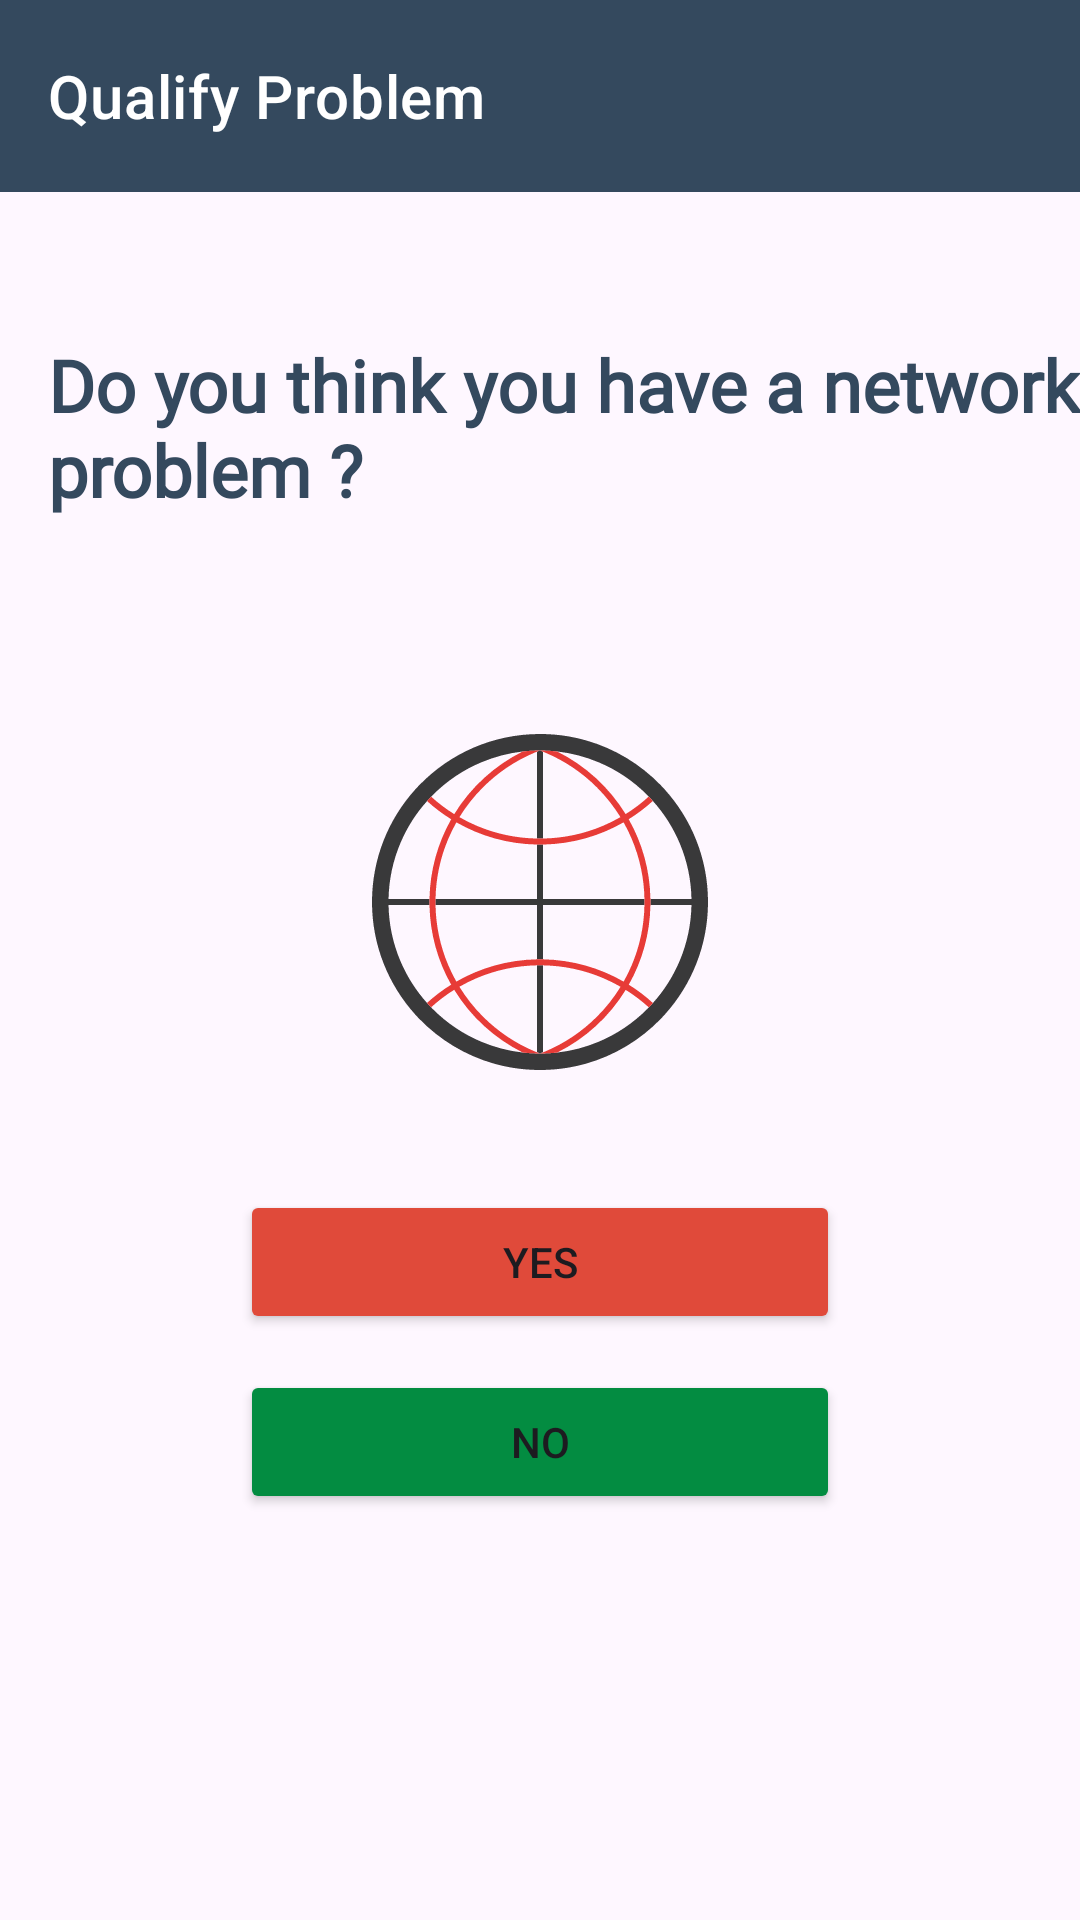

Icons on this 1080 x 1920 Android screen, each with the point to tap as [x,y]:
network illustration: [540,902]
